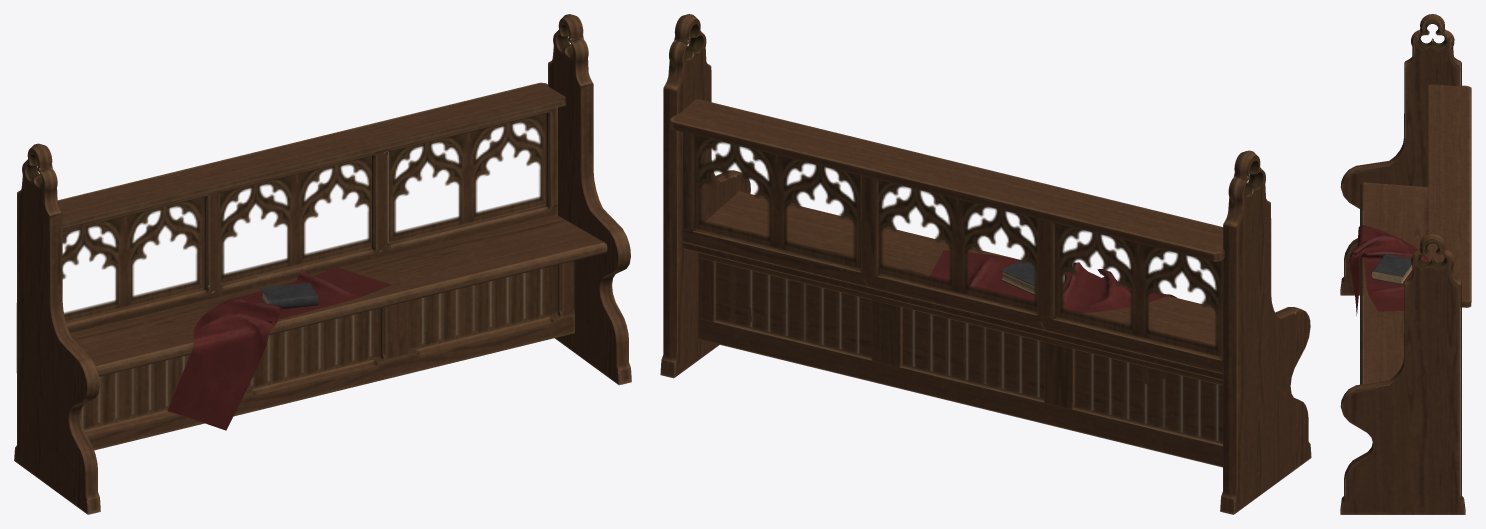
File: church_pew.glb
3 renders of one model, left to right at view 1: azimuth 30°, elevation 25°; view 2: azimuth 150°, elevation 25°; view 3: azimuth 270°, elevation 25°, orthographic. The views are drawn at different scales.
Parts seen in each view (by area): view 1: Bench, scarf:Mesh, cover004 group1; view 2: Bench, scarf:Mesh; view 3: Bench, scarf:Mesh, cover004 group1, group1 Paper004.
Part boxes in pixels (bbox=[...]): Bench: bbox=[14, 14, 631, 514]; scarf:Mesh: bbox=[167, 267, 391, 430]; cover004 group1: bbox=[260, 283, 318, 309]; Bench: bbox=[660, 14, 1311, 514]; scarf:Mesh: bbox=[925, 250, 1176, 312]; Bench: bbox=[1340, 14, 1471, 514]; scarf:Mesh: bbox=[1349, 225, 1428, 315]; cover004 group1: bbox=[1371, 254, 1411, 284]; group1 Paper004: bbox=[1371, 265, 1412, 283].
Bounding box in the file's own units: 1.95 × 1.13 × 0.4825.
Materials: 4 (4 with a texture image).
